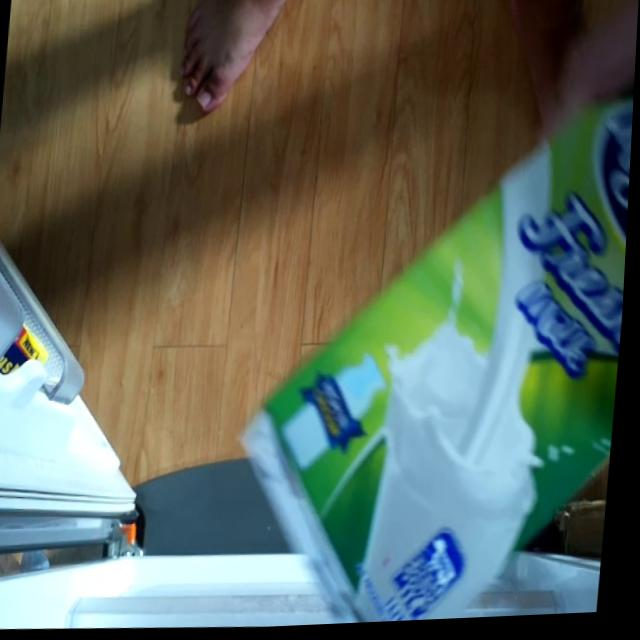milk: (251, 98, 635, 630)
